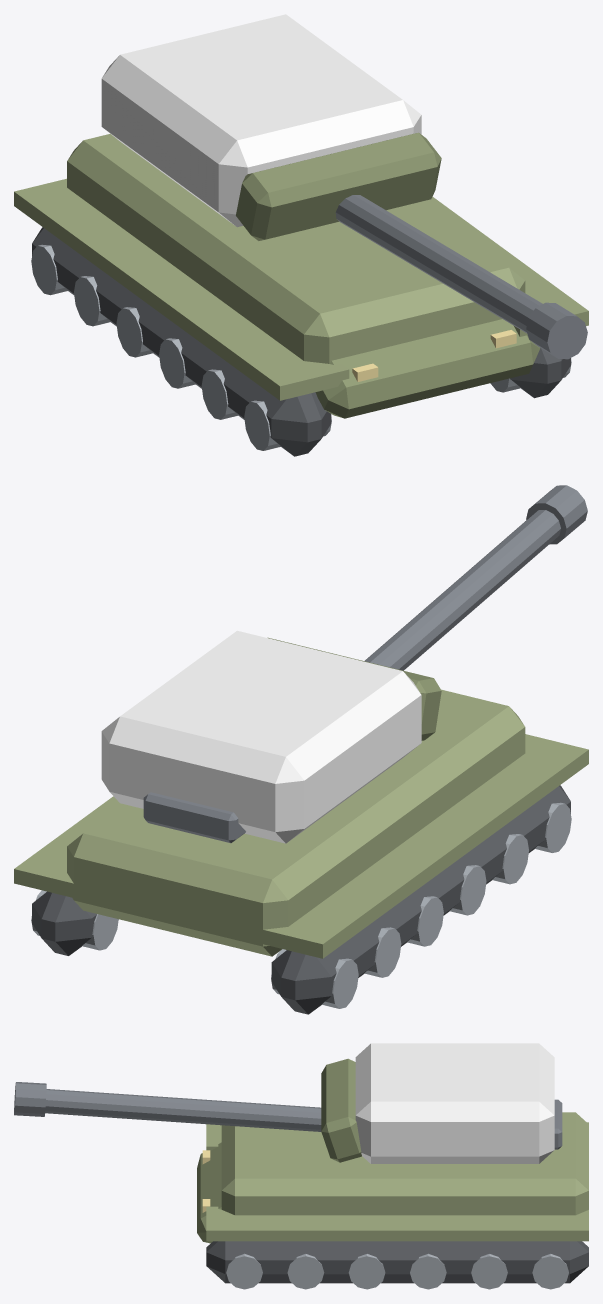
The model's file is howitzer.glb.
3 views of the same model, one above another, from view 1: azimuth 30°, elevation 25°; view 2: azimuth 150°, elevation 25°; view 3: azimuth 270°, elevation 25° (orthographic). The views are drawn at different scales.
Visible parts, largest first — view 1: main, turret; view 2: main, turret; view 3: main, turret.
Boxes of the visible parts, x1=… form: main: x1=14, y1=134, x2=588, y2=456; turret: x1=101, y1=14, x2=587, y2=359; main: x1=14, y1=689, x2=588, y2=1014; turret: x1=101, y1=485, x2=587, y2=843; main: x1=197, y1=1112, x2=588, y2=1289; turret: x1=14, y1=1043, x2=562, y2=1163.
Size of the model in its own units: 0.67 by 0.48 by 1.5.
